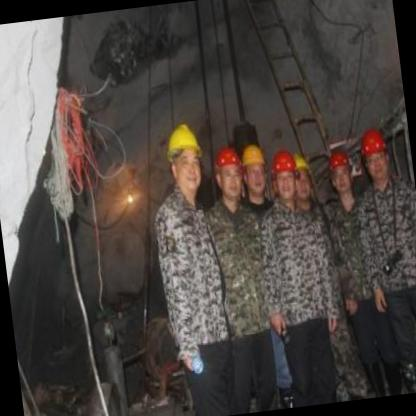helmet: (162, 118, 212, 203), (237, 135, 274, 202), (357, 127, 395, 187), (325, 145, 360, 202), (213, 145, 246, 204), (272, 146, 305, 202), (291, 153, 315, 208)
